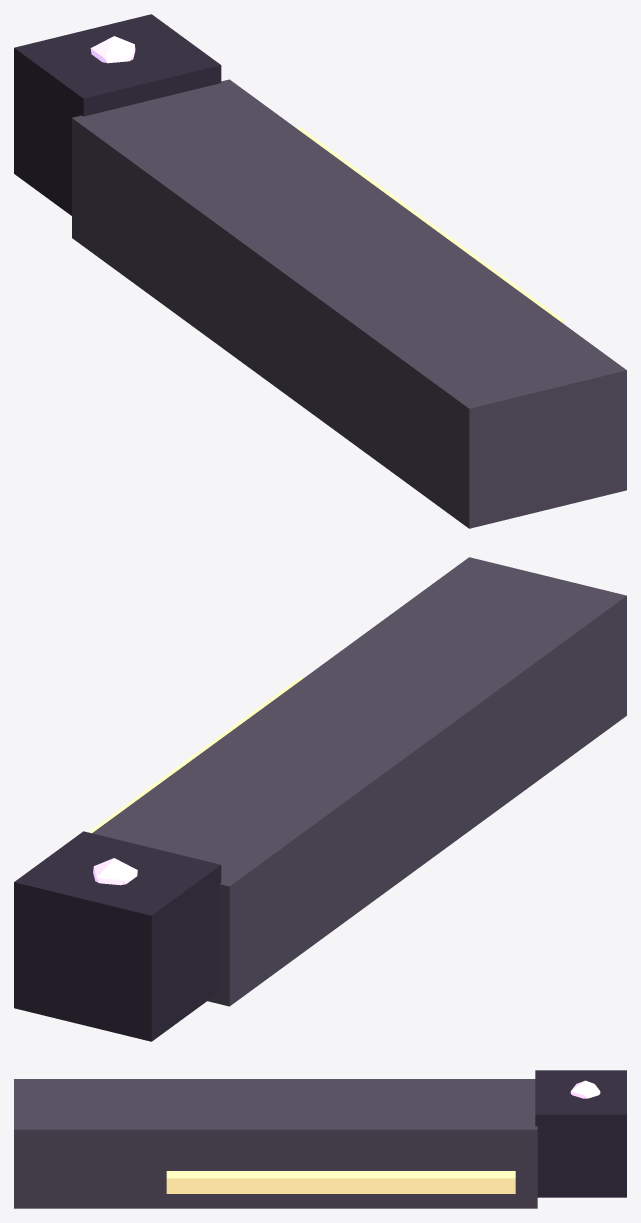
The model's file is sentinel.glb.
3 views of the same model, one above another, from view 1: azimuth 30°, elevation 25°; view 2: azimuth 150°, elevation 25°; view 3: azimuth 270°, elevation 25° (orthographic). The views are drawn at different scales.
Parts seen in each view (by area): view 1: body, head, blade, eye; view 2: body, head, blade, eye; view 3: body, head, blade, eye.
Part boxes in pixels (box(x1,y1,x2,y2)): body: box(72, 79, 626, 528); head: box(14, 14, 221, 215); blade: box(295, 126, 563, 323); eye: box(90, 36, 135, 63); body: box(92, 557, 626, 1006); head: box(14, 831, 221, 1041); blade: box(88, 677, 303, 833); eye: box(93, 858, 137, 885); body: box(14, 1079, 537, 1208); head: box(535, 1070, 626, 1197); blade: box(166, 1171, 515, 1193); eye: box(570, 1080, 600, 1098).
Bounding box in the file's own units: 0.735 × 0.52 × 2.81.
